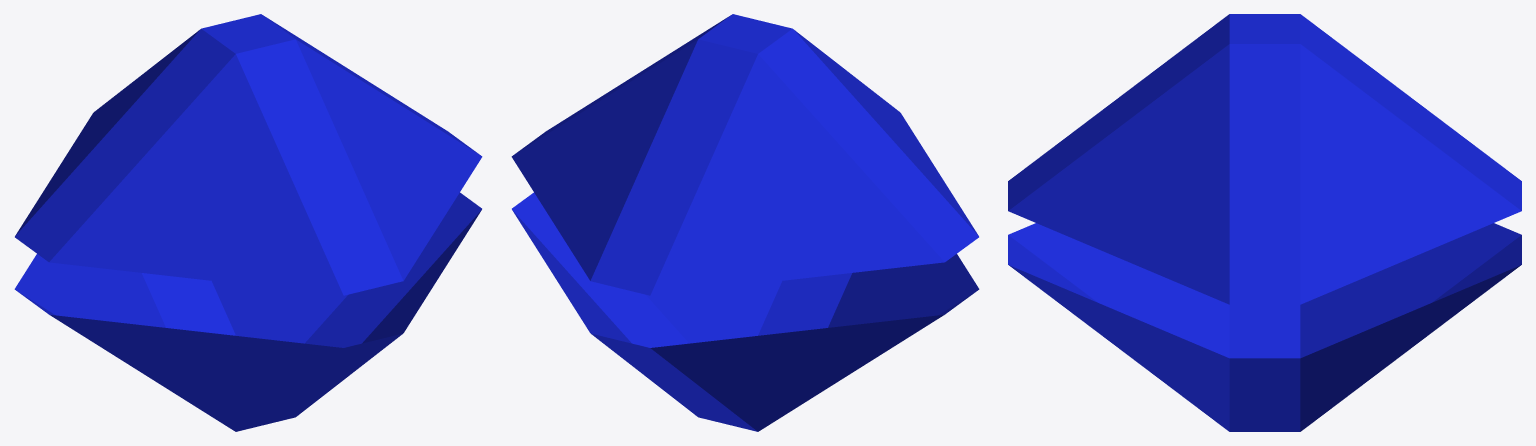
File: EnemyBody.obj
3 renders of one model, left to right at view 1: azimuth 30°, elevation 25°; view 2: azimuth 150°, elevation 25°; view 3: azimuth 270°, elevation 25°, orthographic. The views are drawn at different scales.
Visible parts, largest first — view 1: 立方体; view 2: 立方体; view 3: 立方体.
Part boxes in pixels (<box>): 立方体: <box>14,14,482,431</box>; 立方体: <box>511,14,979,431</box>; 立方体: <box>1008,14,1521,431</box>.
Bounding box in the file's own units: 2.4 × 2 × 2.4.
2 materials, 2 textured.
